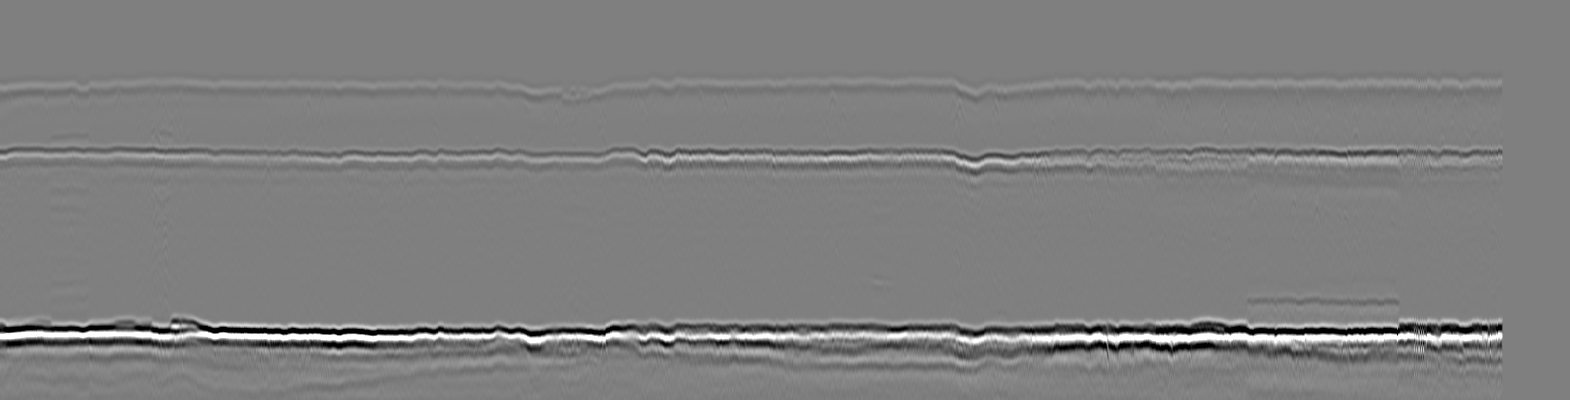fault: (949, 141, 997, 209), (947, 68, 990, 114)
